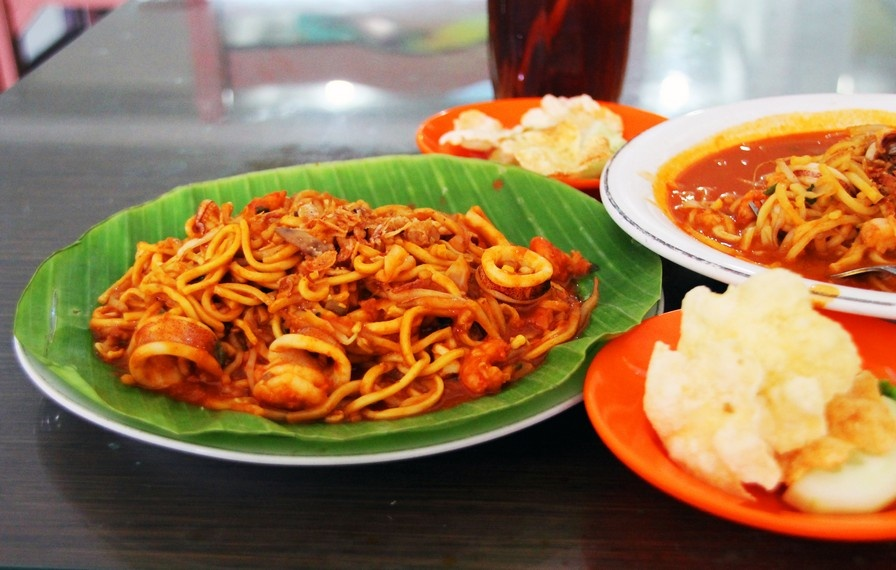mie_aceh: (87, 191, 599, 428)
